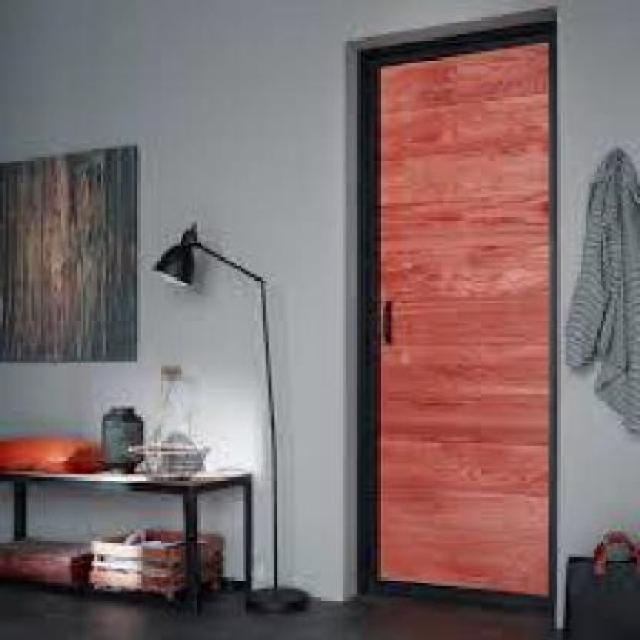door_handle: (376, 296, 402, 354)
